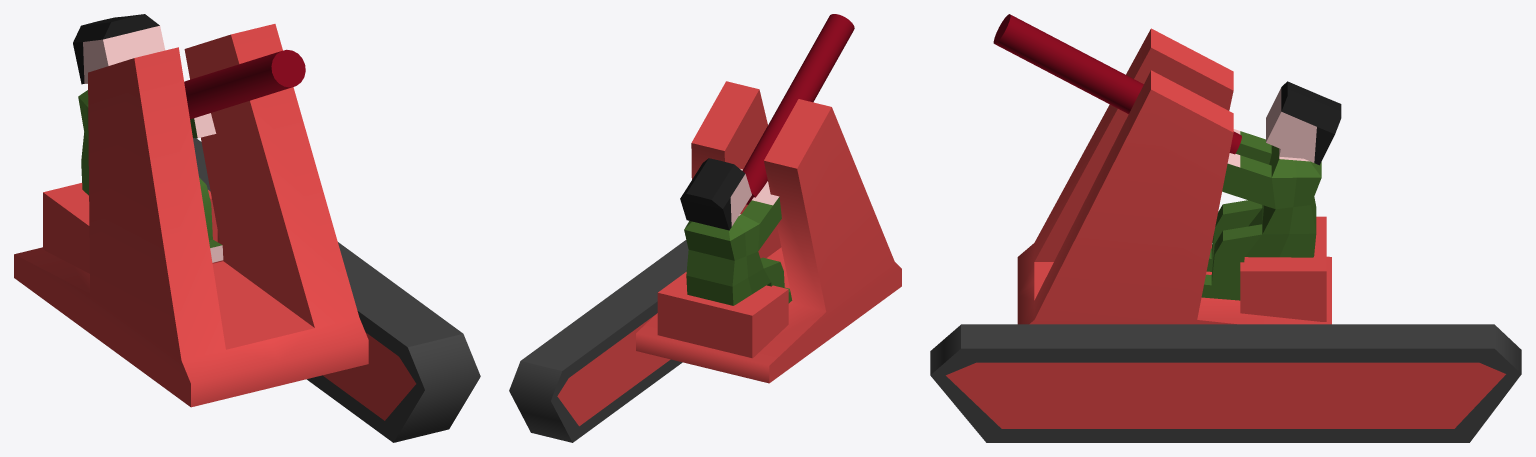
Rendered from pessoaTanke.FBX.
3 views of the same model, side by side, from view 1: azimuth 30°, elevation 25°; view 2: azimuth 150°, elevation 25°; view 3: azimuth 270°, elevation 25° (orthographic). The views are drawn at different scales.
Visible parts, largest first — view 1: Box001, Box004, Box003, Cylinder001, Box002; view 2: Box001, Box004, Box003, Box002, Cylinder001; view 3: Box004, Box001, Box003, Box002, Cylinder001.
Part boxes in pixels (x1,y1,x2,y2): Box001: (14, 24, 368, 407); Box004: (193, 138, 480, 442); Box003: (73, 14, 223, 262); Cylinder001: (184, 49, 305, 119); Box002: (43, 183, 217, 273); Box001: (636, 81, 901, 383); Box004: (509, 240, 688, 442); Box003: (680, 158, 792, 305); Box002: (657, 272, 788, 358); Cylinder001: (742, 14, 854, 204); Box004: (930, 324, 1521, 442); Box001: (1017, 28, 1331, 324); Box003: (1201, 81, 1341, 300); Box002: (1240, 216, 1326, 321); Cylinder001: (993, 14, 1241, 154).
Bounding box in the file's own units: 16.08 × 25.92 × 38.47.
